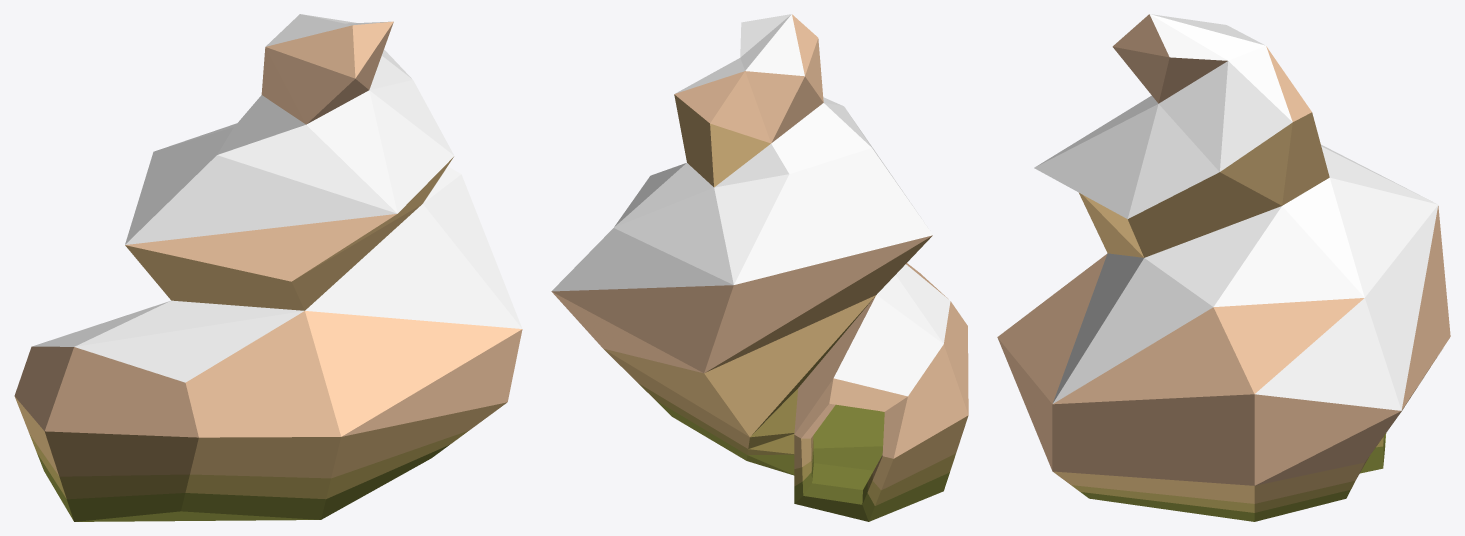
Rendered from landmarkSeashell.fbx.
The picture shows the model from 3 angles, left to right: view 1: azimuth 30°, elevation 25°; view 2: azimuth 150°, elevation 25°; view 3: azimuth 270°, elevation 25°; orthographic projection. The views are drawn at different scales.
Visible parts, largest first — view 1: shell, grass; view 2: shell, grass; view 3: shell, grass.
Boxes of the visible parts, box(x1,y1,x2,y2) form: shell: box(14, 21, 522, 521); grass: box(32, 14, 522, 382); shell: box(551, 14, 968, 521); grass: box(552, 14, 950, 396); shell: box(997, 14, 1450, 521); grass: box(1034, 14, 1438, 410).
Bounding box in the file's own units: 10813 × 11490 × 9198.
2 materials, 2 textured.
